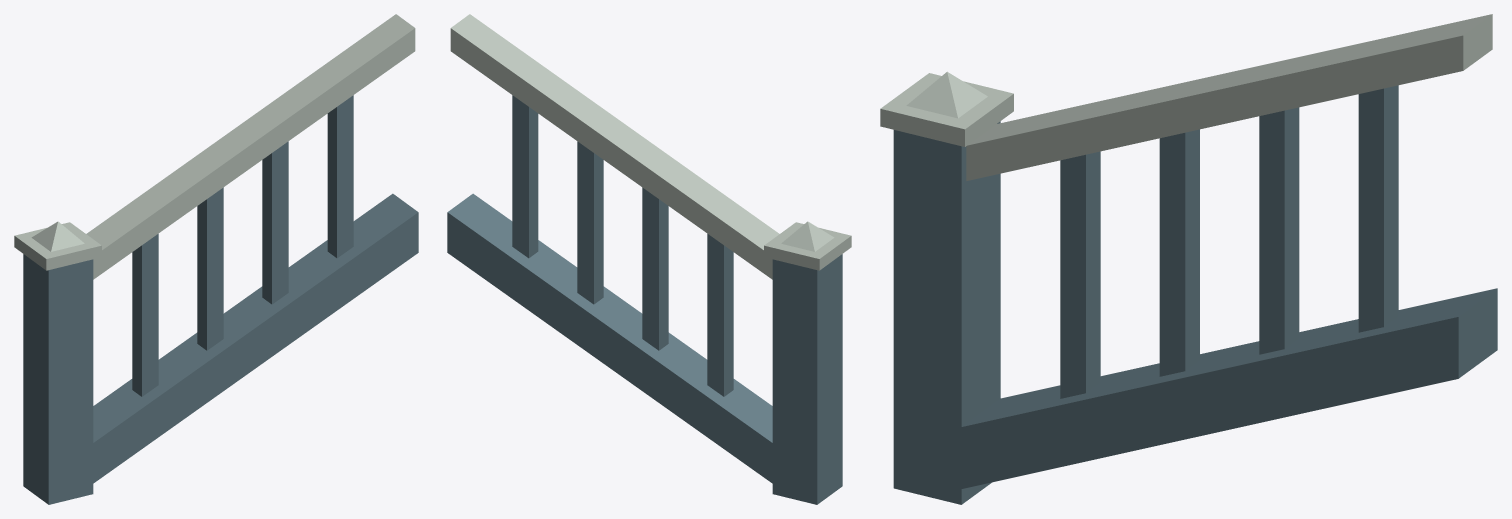
File: rail_stair_24deg_2m.glb
3 views of the same model, side by side, from view 1: azimuth 30°, elevation 25°; view 2: azimuth 150°, elevation 25°; view 3: azimuth 330°, elevation 25° (orthographic). The views are drawn at different scales.
Visible parts, largest first — view 1: RailStair24Deg2M / Stone, RailStair24Deg2M / Coping; view 2: RailStair24Deg2M / Stone, RailStair24Deg2M / Coping; view 3: RailStair24Deg2M / Stone, RailStair24Deg2M / Coping.
Boxes of the visible parts, <box> form: RailStair24Deg2M / Stone: <box>23,95,418,504</box>; RailStair24Deg2M / Coping: <box>14,14,415,279</box>; RailStair24Deg2M / Stone: <box>447,95,842,504</box>; RailStair24Deg2M / Coping: <box>450,14,851,279</box>; RailStair24Deg2M / Stone: <box>893,85,1497,504</box>; RailStair24Deg2M / Coping: <box>880,14,1492,180</box>.
Size of the model in its own units: 2.03 by 1.99 by 0.3.
